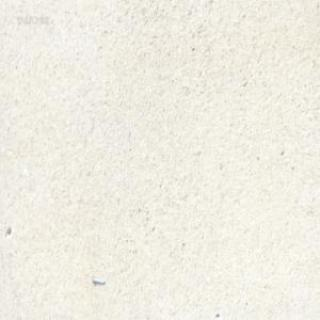Nailtrack_idkeyframe: (90, 273, 106, 284)
